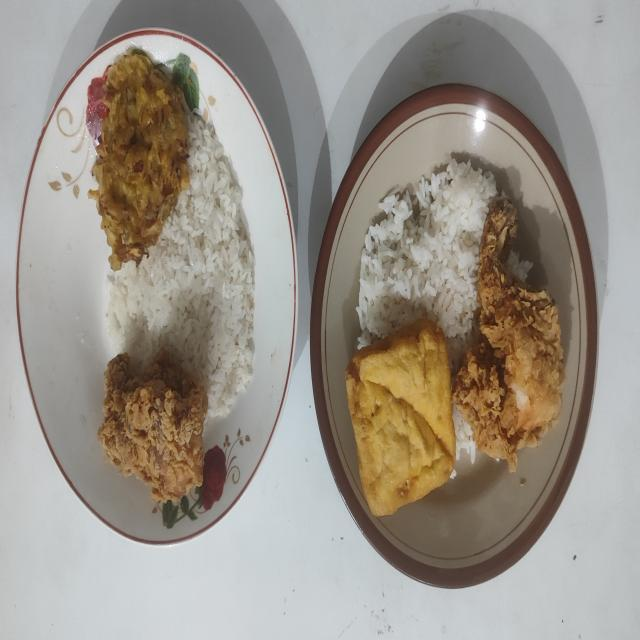nasi_putih: (107, 114, 255, 418), (356, 158, 498, 362), (452, 406, 477, 463)
tahu_goreng: (346, 319, 456, 516)
